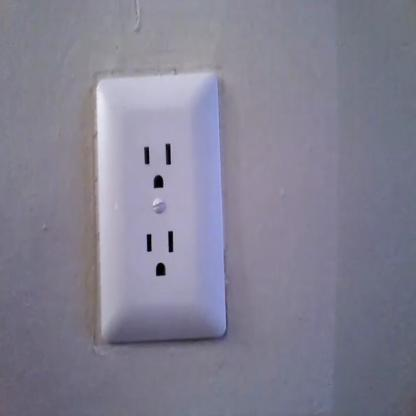OUTLET: (95, 76, 228, 345)
